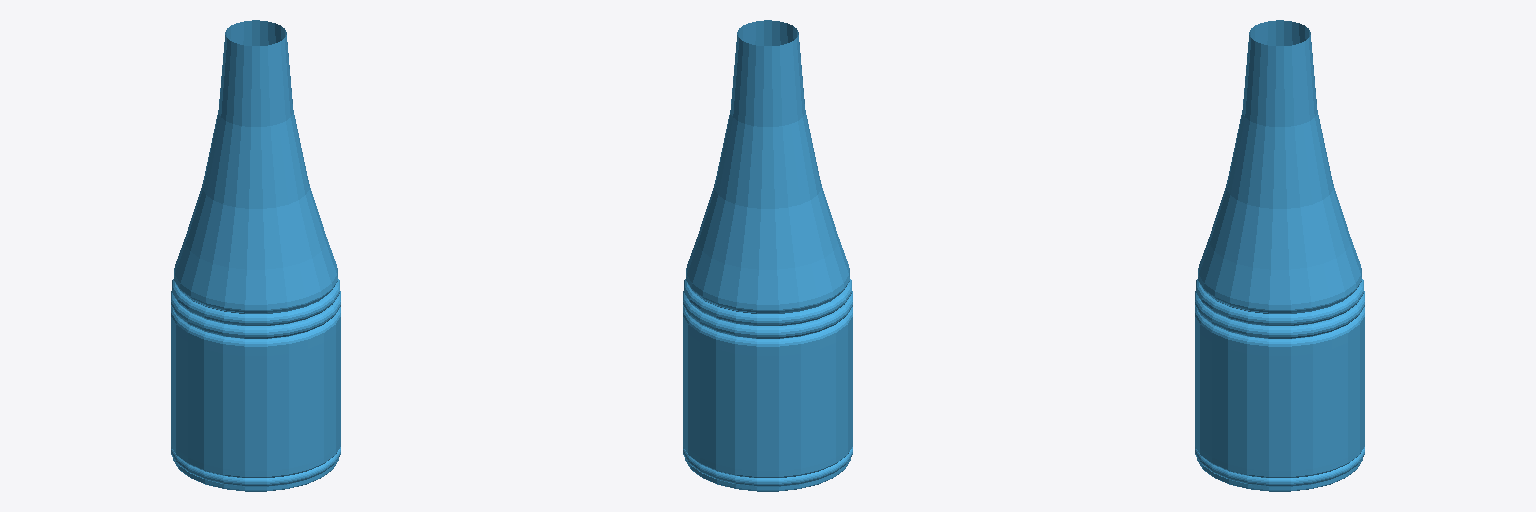
robot.urdf — partnet_1cf98e5b6fff5471c8724d5673a063a6:
<?xml version="1.0" ?>
<robot name="partnet_1cf98e5b6fff5471c8724d5673a063a6">
	<link name="base"/>
	<!--link name="link_0">
		<visual name="lid-8">
			<origin xyz="0.00042704949450492874 0 -0.0010297028303146321"/>
			<geometry>
				<mesh filename="textured_objs/original-2.obj"/>
			</geometry>
		</visual>
		<visual name="lid-8">
			<origin xyz="0.00042704949450492874 0 -0.0010297028303146321"/>
			<geometry>
				<mesh filename="textured_objs/original-10.obj"/>
			</geometry>
		</visual>
		<visual name="lid-8">
			<origin xyz="0.00042704949450492874 0 -0.0010297028303146321"/>
			<geometry>
				<mesh filename="textured_objs/original-9.obj"/>
			</geometry>
		</visual>
		<visual name="lid-8">
			<origin xyz="0.00042704949450492874 0 -0.0010297028303146321"/>
			<geometry>
				<mesh filename="textured_objs/original-46.obj"/>
			</geometry>
		</visual>
		<visual name="lid-8">
			<origin xyz="0.00042704949450492874 0 -0.0010297028303146321"/>
			<geometry>
				<mesh filename="textured_objs/original-52.obj"/>
			</geometry>
		</visual>
		<visual name="lid-8">
			<origin xyz="0.00042704949450492874 0 -0.0010297028303146321"/>
			<geometry>
				<mesh filename="textured_objs/original-51.obj"/>
			</geometry>
		</visual>
		<visual name="lid-8">
			<origin xyz="0.00042704949450492874 0 -0.0010297028303146321"/>
			<geometry>
				<mesh filename="textured_objs/original-50.obj"/>
			</geometry>
		</visual>
		<visual name="lid-8">
			<origin xyz="0.00042704949450492874 0 -0.0010297028303146321"/>
			<geometry>
				<mesh filename="textured_objs/original-48.obj"/>
			</geometry>
		</visual>
		<visual name="lid-8">
			<origin xyz="0.00042704949450492874 0 -0.0010297028303146321"/>
			<geometry>
				<mesh filename="textured_objs/original-49.obj"/>
			</geometry>
		</visual>
		<visual name="lid-8">
			<origin xyz="0.00042704949450492874 0 -0.0010297028303146321"/>
			<geometry>
				<mesh filename="textured_objs/original-47.obj"/>
			</geometry>
		</visual>
		<visual name="lid-8">
			<origin xyz="0.00042704949450492874 0 -0.0010297028303146321"/>
			<geometry>
				<mesh filename="textured_objs/original-45.obj"/>
			</geometry>
		</visual>
		<visual name="lid-8">
			<origin xyz="0.00042704949450492874 0 -0.0010297028303146321"/>
			<geometry>
				<mesh filename="textured_objs/original-44.obj"/>
			</geometry>
		</visual>
		<visual name="lid-8">
			<origin xyz="0.00042704949450492874 0 -0.0010297028303146321"/>
			<geometry>
				<mesh filename="textured_objs/original-43.obj"/>
			</geometry>
		</visual>
		<visual name="lid-8">
			<origin xyz="0.00042704949450492874 0 -0.0010297028303146321"/>
			<geometry>
				<mesh filename="textured_objs/original-42.obj"/>
			</geometry>
		</visual>
		<visual name="lid-8">
			<origin xyz="0.00042704949450492874 0 -0.0010297028303146321"/>
			<geometry>
				<mesh filename="textured_objs/original-41.obj"/>
			</geometry>
		</visual>
		<visual name="lid-8">
			<origin xyz="0.00042704949450492874 0 -0.0010297028303146321"/>
			<geometry>
				<mesh filename="textured_objs/original-39.obj"/>
			</geometry>
		</visual>
		<visual name="lid-8">
			<origin xyz="0.00042704949450492874 0 -0.0010297028303146321"/>
			<geometry>
				<mesh filename="textured_objs/original-40.obj"/>
			</geometry>
		</visual>
		<visual name="lid-8">
			<origin xyz="0.00042704949450492874 0 -0.0010297028303146321"/>
			<geometry>
				<mesh filename="textured_objs/original-38.obj"/>
			</geometry>
		</visual>
		<visual name="lid-8">
			<origin xyz="0.00042704949450492874 0 -0.0010297028303146321"/>
			<geometry>
				<mesh filename="textured_objs/original-37.obj"/>
			</geometry>
		</visual>
		<visual name="lid-8">
			<origin xyz="0.00042704949450492874 0 -0.0010297028303146321"/>
			<geometry>
				<mesh filename="textured_objs/original-35.obj"/>
			</geometry>
		</visual>
		<visual name="lid-8">
			<origin xyz="0.00042704949450492874 0 -0.0010297028303146321"/>
			<geometry>
				<mesh filename="textured_objs/original-36.obj"/>
			</geometry>
		</visual>
		<visual name="lid-8">
			<origin xyz="0.00042704949450492874 0 -0.0010297028303146321"/>
			<geometry>
				<mesh filename="textured_objs/original-34.obj"/>
			</geometry>
		</visual>
		<visual name="lid-8">
			<origin xyz="0.00042704949450492874 0 -0.0010297028303146321"/>
			<geometry>
				<mesh filename="textured_objs/original-7.obj"/>
			</geometry>
		</visual>
		<visual name="lid-8">
			<origin xyz="0.00042704949450492874 0 -0.0010297028303146321"/>
			<geometry>
				<mesh filename="textured_objs/original-8.obj"/>
			</geometry>
		</visual>
		<visual name="lid-8">
			<origin xyz="0.00042704949450492874 0 -0.0010297028303146321"/>
			<geometry>
				<mesh filename="textured_objs/original-6.obj"/>
			</geometry>
		</visual>
		<visual name="lid-8">
			<origin xyz="0.00042704949450492874 0 -0.0010297028303146321"/>
			<geometry>
				<mesh filename="textured_objs/original-5.obj"/>
			</geometry>
		</visual>
		<visual name="lid-8">
			<origin xyz="0.00042704949450492874 0 -0.0010297028303146321"/>
			<geometry>
				<mesh filename="textured_objs/original-4.obj"/>
			</geometry>
		</visual>
		<visual name="lid-8">
			<origin xyz="0.00042704949450492874 0 -0.0010297028303146321"/>
			<geometry>
				<mesh filename="textured_objs/original-3.obj"/>
			</geometry>
		</visual>
		<visual name="lid-8">
			<origin xyz="0.00042704949450492874 0 -0.0010297028303146321"/>
			<geometry>
				<mesh filename="textured_objs/original-33.obj"/>
			</geometry>
		</visual>
		<visual name="lid-8">
			<origin xyz="0.00042704949450492874 0 -0.0010297028303146321"/>
			<geometry>
				<mesh filename="textured_objs/original-32.obj"/>
			</geometry>
		</visual>
		<visual name="lid-8">
			<origin xyz="0.00042704949450492874 0 -0.0010297028303146321"/>
			<geometry>
				<mesh filename="textured_objs/original-30.obj"/>
			</geometry>
		</visual>
		<visual name="lid-8">
			<origin xyz="0.00042704949450492874 0 -0.0010297028303146321"/>
			<geometry>
				<mesh filename="textured_objs/original-31.obj"/>
			</geometry>
		</visual>
		<visual name="lid-8">
			<origin xyz="0.00042704949450492874 0 -0.0010297028303146321"/>
			<geometry>
				<mesh filename="textured_objs/original-29.obj"/>
			</geometry>
		</visual>
		<visual name="lid-8">
			<origin xyz="0.00042704949450492874 0 -0.0010297028303146321"/>
			<geometry>
				<mesh filename="textured_objs/original-27.obj"/>
			</geometry>
		</visual>
		<visual name="lid-8">
			<origin xyz="0.00042704949450492874 0 -0.0010297028303146321"/>
			<geometry>
				<mesh filename="textured_objs/original-28.obj"/>
			</geometry>
		</visual>
		<visual name="lid-8">
			<origin xyz="0.00042704949450492874 0 -0.0010297028303146321"/>
			<geometry>
				<mesh filename="textured_objs/original-26.obj"/>
			</geometry>
		</visual>
		<visual name="lid-8">
			<origin xyz="0.00042704949450492874 0 -0.0010297028303146321"/>
			<geometry>
				<mesh filename="textured_objs/original-25.obj"/>
			</geometry>
		</visual>
		<visual name="lid-8">
			<origin xyz="0.00042704949450492874 0 -0.0010297028303146321"/>
			<geometry>
				<mesh filename="textured_objs/original-24.obj"/>
			</geometry>
		</visual>
		<visual name="lid-8">
			<origin xyz="0.00042704949450492874 0 -0.0010297028303146321"/>
			<geometry>
				<mesh filename="textured_objs/original-23.obj"/>
			</geometry>
		</visual>
		<visual name="lid-8">
			<origin xyz="0.00042704949450492874 0 -0.0010297028303146321"/>
			<geometry>
				<mesh filename="textured_objs/original-22.obj"/>
			</geometry>
		</visual>
		<visual name="lid-8">
			<origin xyz="0.00042704949450492874 0 -0.0010297028303146321"/>
			<geometry>
				<mesh filename="textured_objs/original-21.obj"/>
			</geometry>
		</visual>
		<visual name="lid-8">
			<origin xyz="0.00042704949450492874 0 -0.0010297028303146321"/>
			<geometry>
				<mesh filename="textured_objs/original-19.obj"/>
			</geometry>
		</visual>
		<visual name="lid-8">
			<origin xyz="0.00042704949450492874 0 -0.0010297028303146321"/>
			<geometry>
				<mesh filename="textured_objs/original-20.obj"/>
			</geometry>
		</visual>
		<visual name="lid-8">
			<origin xyz="0.00042704949450492874 0 -0.0010297028303146321"/>
			<geometry>
				<mesh filename="textured_objs/original-18.obj"/>
			</geometry>
		</visual>
		<visual name="lid-8">
			<origin xyz="0.00042704949450492874 0 -0.0010297028303146321"/>
			<geometry>
				<mesh filename="textured_objs/original-17.obj"/>
			</geometry>
		</visual>
		<visual name="lid-8">
			<origin xyz="0.00042704949450492874 0 -0.0010297028303146321"/>
			<geometry>
				<mesh filename="textured_objs/original-16.obj"/>
			</geometry>
		</visual>
		<visual name="lid-8">
			<origin xyz="0.00042704949450492874 0 -0.0010297028303146321"/>
			<geometry>
				<mesh filename="textured_objs/original-15.obj"/>
			</geometry>
		</visual>
		<visual name="lid-8">
			<origin xyz="0.00042704949450492874 0 -0.0010297028303146321"/>
			<geometry>
				<mesh filename="textured_objs/original-11.obj"/>
			</geometry>
		</visual>
		<visual name="lid-8">
			<origin xyz="0.00042704949450492874 0 -0.0010297028303146321"/>
			<geometry>
				<mesh filename="textured_objs/original-12.obj"/>
			</geometry>
		</visual>
		<visual name="lid-8">
			<origin xyz="0.00042704949450492874 0 -0.0010297028303146321"/>
			<geometry>
				<mesh filename="textured_objs/original-13.obj"/>
			</geometry>
		</visual>
		<visual name="lid-8">
			<origin xyz="0.00042704949450492874 0 -0.0010297028303146321"/>
			<geometry>
				<mesh filename="textured_objs/original-14.obj"/>
			</geometry>
		</visual>
		<visual name="lid-8">
			<origin xyz="0.00042704949450492874 0 -0.0010297028303146321"/>
			<geometry>
				<mesh filename="textured_objs/original-53.obj"/>
			</geometry>
		</visual>
		<collision>
			<origin xyz="0.00042704949450492874 0 -0.0010297028303146321"/>
			<geometry>
				<mesh filename="textured_objs/original-2.obj"/>
			</geometry>
		</collision>
		<collision>
			<origin xyz="0.00042704949450492874 0 -0.0010297028303146321"/>
			<geometry>
				<mesh filename="textured_objs/original-10.obj"/>
			</geometry>
		</collision>
		<collision>
			<origin xyz="0.00042704949450492874 0 -0.0010297028303146321"/>
			<geometry>
				<mesh filename="textured_objs/original-9.obj"/>
			</geometry>
		</collision>
		<collision>
			<origin xyz="0.00042704949450492874 0 -0.0010297028303146321"/>
			<geometry>
				<mesh filename="textured_objs/original-46.obj"/>
			</geometry>
		</collision>
		<collision>
			<origin xyz="0.00042704949450492874 0 -0.0010297028303146321"/>
			<geometry>
				<mesh filename="textured_objs/original-52.obj"/>
			</geometry>
		</collision>
		<collision>
			<origin xyz="0.00042704949450492874 0 -0.0010297028303146321"/>
			<geometry>
				<mesh filename="textured_objs/original-51.obj"/>
			</geometry>
		</collision>
		<collision>
			<origin xyz="0.00042704949450492874 0 -0.0010297028303146321"/>
			<geometry>
				<mesh filename="textured_objs/original-50.obj"/>
			</geometry>
		</collision>
		<collision>
			<origin xyz="0.00042704949450492874 0 -0.0010297028303146321"/>
			<geometry>
				<mesh filename="textured_objs/original-48.obj"/>
			</geometry>
		</collision>
		<collision>
			<origin xyz="0.00042704949450492874 0 -0.0010297028303146321"/>
			<geometry>
				<mesh filename="textured_objs/original-49.obj"/>
			</geometry>
		</collision>
		<collision>
			<origin xyz="0.00042704949450492874 0 -0.0010297028303146321"/>
			<geometry>
				<mesh filename="textured_objs/original-47.obj"/>
			</geometry>
		</collision>
		<collision>
			<origin xyz="0.00042704949450492874 0 -0.0010297028303146321"/>
			<geometry>
				<mesh filename="textured_objs/original-45.obj"/>
			</geometry>
		</collision>
		<collision>
			<origin xyz="0.00042704949450492874 0 -0.0010297028303146321"/>
			<geometry>
				<mesh filename="textured_objs/original-44.obj"/>
			</geometry>
		</collision>
		<collision>
			<origin xyz="0.00042704949450492874 0 -0.0010297028303146321"/>
			<geometry>
				<mesh filename="textured_objs/original-43.obj"/>
			</geometry>
		</collision>
		<collision>
			<origin xyz="0.00042704949450492874 0 -0.0010297028303146321"/>
			<geometry>
				<mesh filename="textured_objs/original-42.obj"/>
			</geometry>
		</collision>
		<collision>
			<origin xyz="0.00042704949450492874 0 -0.0010297028303146321"/>
			<geometry>
				<mesh filename="textured_objs/original-41.obj"/>
			</geometry>
		</collision>
		<collision>
			<origin xyz="0.00042704949450492874 0 -0.0010297028303146321"/>
			<geometry>
				<mesh filename="textured_objs/original-39.obj"/>
			</geometry>
		</collision>
		<collision>
			<origin xyz="0.00042704949450492874 0 -0.0010297028303146321"/>
			<geometry>
				<mesh filename="textured_objs/original-40.obj"/>
			</geometry>
		</collision>
		<collision>
			<origin xyz="0.00042704949450492874 0 -0.0010297028303146321"/>
			<geometry>
				<mesh filename="textured_objs/original-38.obj"/>
			</geometry>
		</collision>
		<collision>
			<origin xyz="0.00042704949450492874 0 -0.0010297028303146321"/>
			<geometry>
				<mesh filename="textured_objs/original-37.obj"/>
			</geometry>
		</collision>
		<collision>
			<origin xyz="0.00042704949450492874 0 -0.0010297028303146321"/>
			<geometry>
				<mesh filename="textured_objs/original-35.obj"/>
			</geometry>
		</collision>
		<collision>
			<origin xyz="0.00042704949450492874 0 -0.0010297028303146321"/>
			<geometry>
				<mesh filename="textured_objs/original-36.obj"/>
			</geometry>
		</collision>
		<collision>
			<origin xyz="0.00042704949450492874 0 -0.0010297028303146321"/>
			<geometry>
				<mesh filename="textured_objs/original-34.obj"/>
			</geometry>
		</collision>
		<collision>
			<origin xyz="0.00042704949450492874 0 -0.0010297028303146321"/>
			<geometry>
				<mesh filename="textured_objs/original-7.obj"/>
			</geometry>
		</collision>
		<collision>
			<origin xyz="0.00042704949450492874 0 -0.0010297028303146321"/>
			<geometry>
				<mesh filename="textured_objs/original-8.obj"/>
			</geometry>
		</collision>
		<collision>
			<origin xyz="0.00042704949450492874 0 -0.0010297028303146321"/>
			<geometry>
				<mesh filename="textured_objs/original-6.obj"/>
			</geometry>
		</collision>
		<collision>
			<origin xyz="0.00042704949450492874 0 -0.0010297028303146321"/>
			<geometry>
				<mesh filename="textured_objs/original-5.obj"/>
			</geometry>
		</collision>
		<collision>
			<origin xyz="0.00042704949450492874 0 -0.0010297028303146321"/>
			<geometry>
				<mesh filename="textured_objs/original-4.obj"/>
			</geometry>
		</collision>
		<collision>
			<origin xyz="0.00042704949450492874 0 -0.0010297028303146321"/>
			<geometry>
				<mesh filename="textured_objs/original-3.obj"/>
			</geometry>
		</collision>
		<collision>
			<origin xyz="0.00042704949450492874 0 -0.0010297028303146321"/>
			<geometry>
				<mesh filename="textured_objs/original-33.obj"/>
			</geometry>
		</collision>
		<collision>
			<origin xyz="0.00042704949450492874 0 -0.0010297028303146321"/>
			<geometry>
				<mesh filename="textured_objs/original-32.obj"/>
			</geometry>
		</collision>
		<collision>
			<origin xyz="0.00042704949450492874 0 -0.0010297028303146321"/>
			<geometry>
				<mesh filename="textured_objs/original-30.obj"/>
			</geometry>
		</collision>
		<collision>
			<origin xyz="0.00042704949450492874 0 -0.0010297028303146321"/>
			<geometry>
				<mesh filename="textured_objs/original-31.obj"/>
			</geometry>
		</collision>
		<collision>
			<origin xyz="0.00042704949450492874 0 -0.0010297028303146321"/>
			<geometry>
				<mesh filename="textured_objs/original-29.obj"/>
			</geometry>
		</collision>
		<collision>
			<origin xyz="0.00042704949450492874 0 -0.0010297028303146321"/>
			<geometry>
				<mesh filename="textured_objs/original-27.obj"/>
			</geometry>
		</collision>
		<collision>
			<origin xyz="0.00042704949450492874 0 -0.0010297028303146321"/>
			<geometry>
				<mesh filename="textured_objs/original-28.obj"/>
			</geometry>
		</collision>
		<collision>
			<origin xyz="0.00042704949450492874 0 -0.0010297028303146321"/>
			<geometry>
				<mesh filename="textured_objs/original-26.obj"/>
			</geometry>
		</collision>
		<collision>
			<origin xyz="0.00042704949450492874 0 -0.0010297028303146321"/>
			<geometry>
				<mesh filename="textured_objs/original-25.obj"/>
			</geometry>
		</collision>
		<collision>
			<origin xyz="0.00042704949450492874 0 -0.0010297028303146321"/>
			<geometry>
				<mesh filename="textured_objs/original-24.obj"/>
			</geometry>
		</collision>
		<collision>
			<origin xyz="0.00042704949450492874 0 -0.0010297028303146321"/>
			<geometry>
				<mesh filename="textured_objs/original-23.obj"/>
			</geometry>
		</collision>
		<collision>
			<origin xyz="0.00042704949450492874 0 -0.0010297028303146321"/>
			<geometry>
				<mesh filename="textured_objs/original-22.obj"/>
			</geometry>
		</collision>
		<collision>
			<origin xyz="0.00042704949450492874 0 -0.0010297028303146321"/>
			<geometry>
				<mesh filename="textured_objs/original-21.obj"/>
			</geometry>
		</collision>
		<collision>
			<origin xyz="0.00042704949450492874 0 -0.0010297028303146321"/>
			<geometry>
				<mesh filename="textured_objs/original-19.obj"/>
			</geometry>
		</collision>
		<collision>
			<origin xyz="0.00042704949450492874 0 -0.0010297028303146321"/>
			<geometry>
				<mesh filename="textured_objs/original-20.obj"/>
			</geometry>
		</collision>
		<collision>
			<origin xyz="0.00042704949450492874 0 -0.0010297028303146321"/>
			<geometry>
				<mesh filename="textured_objs/original-18.obj"/>
			</geometry>
		</collision>
		<collision>
			<origin xyz="0.00042704949450492874 0 -0.0010297028303146321"/>
			<geometry>
				<mesh filename="textured_objs/original-17.obj"/>
			</geometry>
		</collision>
		<collision>
			<origin xyz="0.00042704949450492874 0 -0.0010297028303146321"/>
			<geometry>
				<mesh filename="textured_objs/original-16.obj"/>
			</geometry>
		</collision>
		<collision>
			<origin xyz="0.00042704949450492874 0 -0.0010297028303146321"/>
			<geometry>
				<mesh filename="textured_objs/original-15.obj"/>
			</geometry>
		</collision>
		<collision>
			<origin xyz="0.00042704949450492874 0 -0.0010297028303146321"/>
			<geometry>
				<mesh filename="textured_objs/original-11.obj"/>
			</geometry>
		</collision>
		<collision>
			<origin xyz="0.00042704949450492874 0 -0.0010297028303146321"/>
			<geometry>
				<mesh filename="textured_objs/original-12.obj"/>
			</geometry>
		</collision>
		<collision>
			<origin xyz="0.00042704949450492874 0 -0.0010297028303146321"/>
			<geometry>
				<mesh filename="textured_objs/original-13.obj"/>
			</geometry>
		</collision>
		<collision>
			<origin xyz="0.00042704949450492874 0 -0.0010297028303146321"/>
			<geometry>
				<mesh filename="textured_objs/original-14.obj"/>
			</geometry>
		</collision>
		<collision>
			<origin xyz="0.00042704949450492874 0 -0.0010297028303146321"/>
			<geometry>
				<mesh filename="textured_objs/original-53.obj"/>
			</geometry>
		</collision>
	</link>
	<joint name="joint_0" type="continuous">
		<origin xyz="0.0 0 0.0"/>
		<axis xyz="0 1 0"/>
		<child link="link_0"/>
		<parent link="link_0_helper"/>
	</joint-->
	<link name="link_1">
        <contact>
          <lateral_friction value="10"/>
          <rolling_friction value="3"/>
          <inertia_scaling value="3.0"/>
        </contact>
        <inertial>
          <origin rpy="0 0 0" xyz="0 0 0"/>
           <mass value="2"/>
           <inertia ixx="1" ixy="0" ixz="0" iyy="1" iyz="0" izz="1"/>
        </inertial>
		<visual name="body-6">
			<origin xyz="0 0 0"/>
			<geometry>
				<mesh filename="textured_objs/new-5.obj"/>
			</geometry>
		</visual>
		<visual name="body-6">
			<origin xyz="0 0 0"/>
			<geometry>
				<mesh filename="textured_objs/new-2.obj"/>
			</geometry>
		</visual>
		<visual name="neck-7">
			<origin xyz="0 0 0"/>
			<geometry>
				<mesh filename="textured_objs/new-4.obj"/>
			</geometry>
		</visual>
		<visual name="neck-7">
			<origin xyz="0 0 0"/>
			<geometry>
				<mesh filename="textured_objs/original-54.obj"/>
			</geometry>
		</visual>
		<collision>
			<origin xyz="0 0 0"/>
			<geometry>
				<mesh filename="textured_objs/new-5.obj"/>
			</geometry>
		</collision>
		<collision>
			<origin xyz="0 0 0"/>
			<geometry>
				<mesh filename="textured_objs/new-2.obj"/>
			</geometry>
		</collision>
		<collision>
			<origin xyz="0 0 0"/>
			<geometry>
				<mesh filename="textured_objs/new-4.obj"/>
			</geometry>
		</collision>
		<collision>
			<origin xyz="0 0 0"/>
			<geometry>
				<mesh filename="textured_objs/original-54.obj"/>
			</geometry>
		</collision>
	</link>
	<joint name="joint_1" type="fixed">
		<origin rpy="1.570796326794897 0 -1.570796326794897" xyz="0 0 0"/>
		<child link="link_1"/>
		<parent link="base"/>
	</joint>
	<!--link name="link_0_helper"/>
	<joint name="joint_2" type="prismatic">
		<origin xyz="-0.00042704949450492874 0 0.0010297028303146321"/>
		<axis xyz="0 1 0"/>
		<child link="link_0_helper"/>
		<parent link="link_1"/>
		<limit lower="-0.016000000000000014" upper="0.016000000000000014"/>
	</joint-->
</robot>

--- Render facts (derived) ---
3 views of the same robot in one strip: view 1: azimuth 30°, elevation 25°; view 2: azimuth 150°, elevation 25°; view 3: azimuth 270°, elevation 25° (orthographic).
Model partnet_1cf98e5b6fff5471c8724d5673a063a6 with 2 links and 1 joints (1 fixed), rooted at base, posed all joints at 0.
Visible links, largest first — view 1: link_1; view 2: link_1; view 3: link_1.
Link boxes in pixels (<box>): link_1: <box>171,20,340,491</box>; link_1: <box>683,20,852,491</box>; link_1: <box>1195,20,1364,491</box>.
Size in the robot's own frame: 0.5515 by 0.5515 by 1.51 metres.
Meshes: 4 distinct files referenced, 3 mesh visuals loaded (3 OBJ); not drawn: 1 (reference not matched to a file when rendering).
